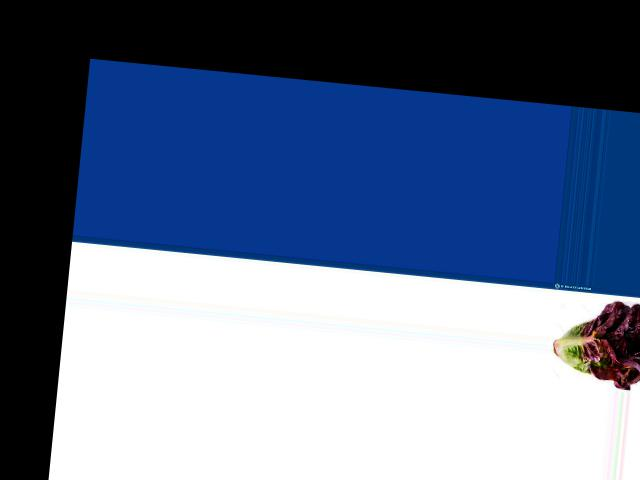lettuce: (548, 295, 640, 390)
